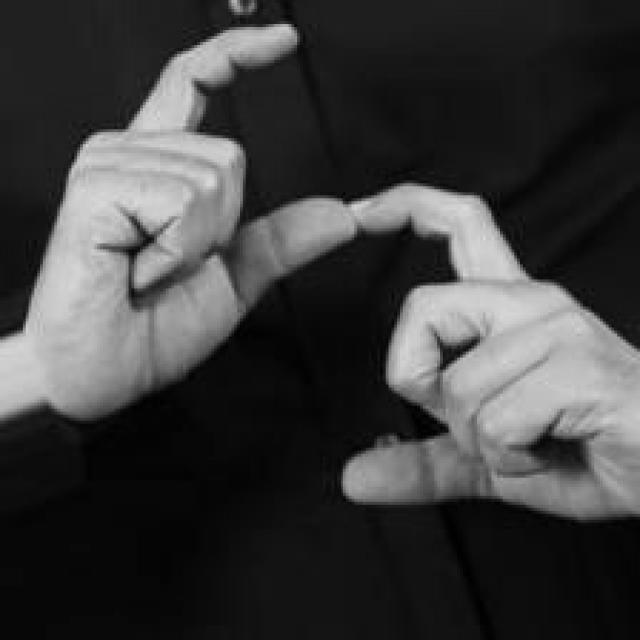S: (21, 16, 640, 527)
